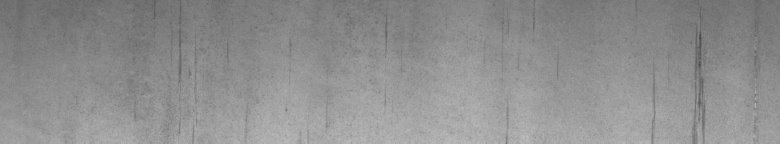ka: (651, 32, 708, 136)
